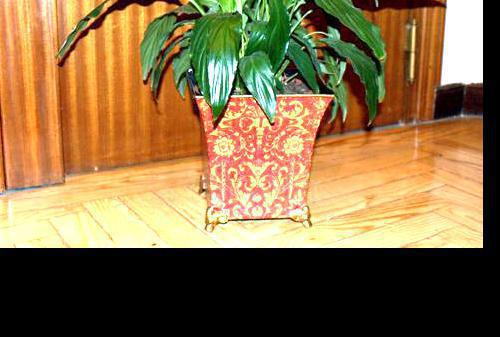Matera: (45, 0, 449, 237)
